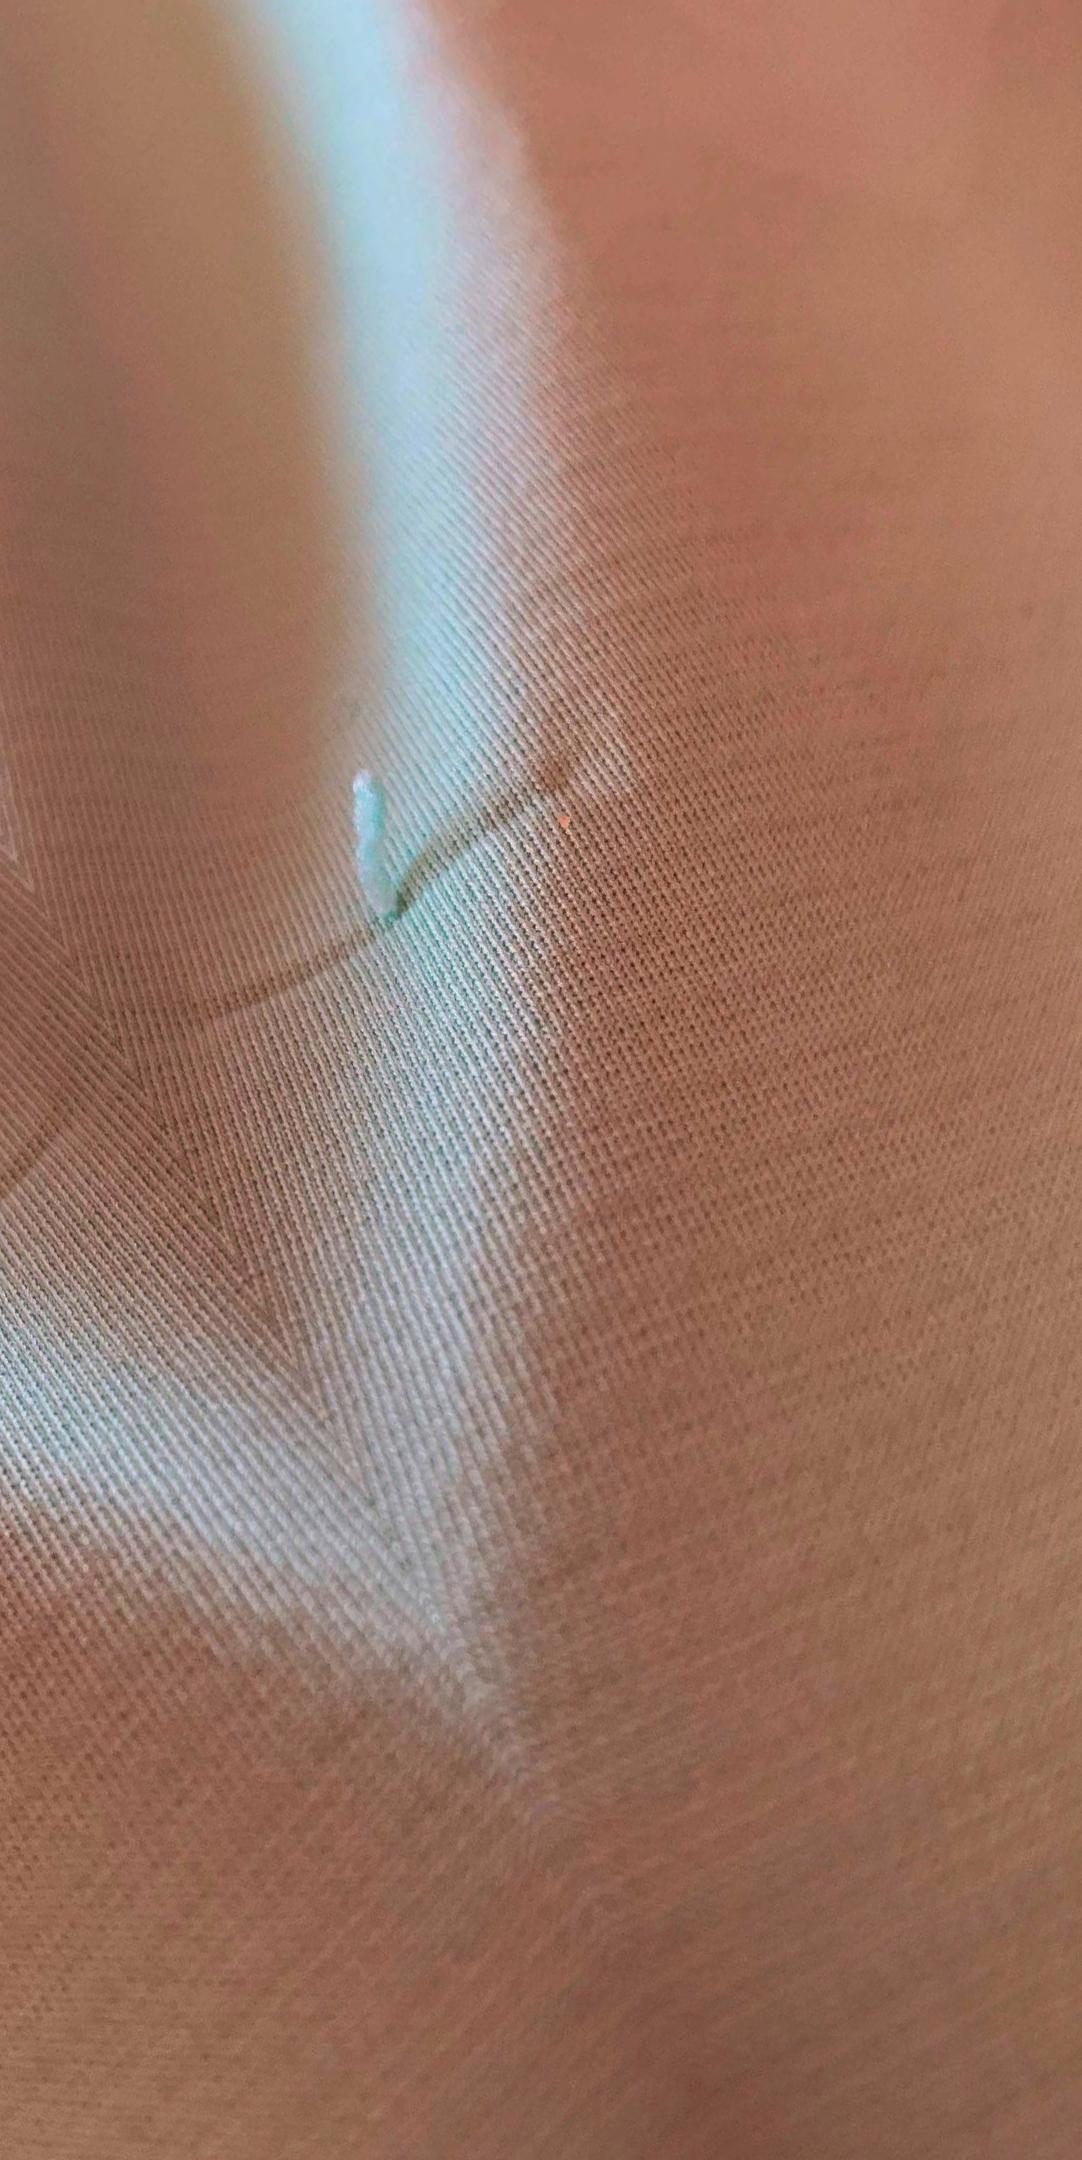snag: (251, 724, 490, 963)
